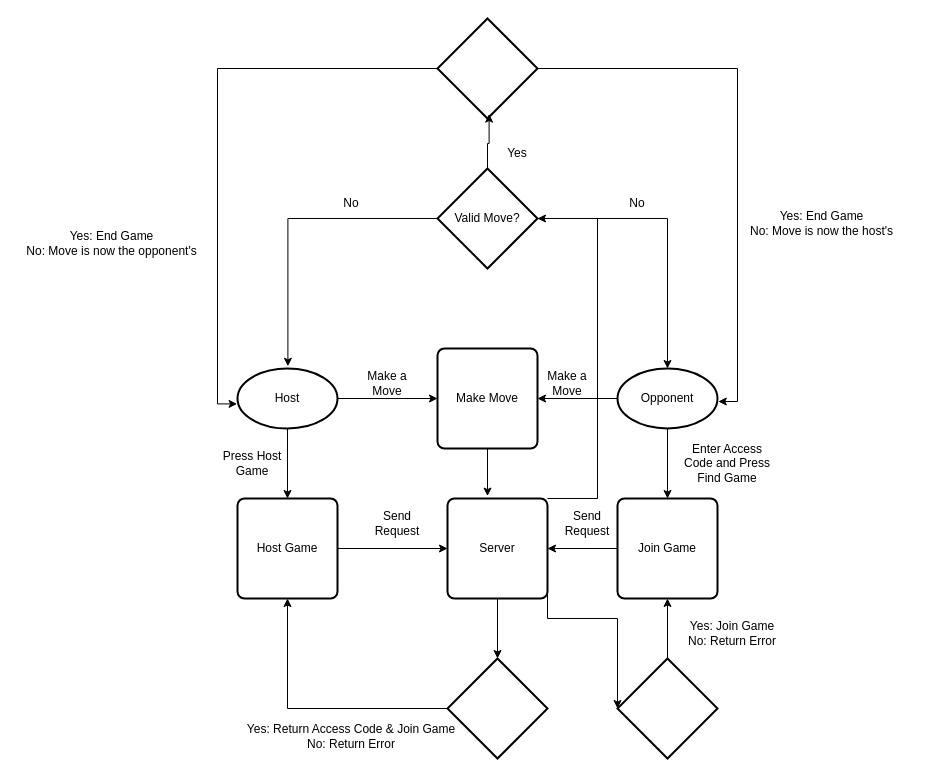
The diagram is 933 pixels wide and 776 high, and some of its shapes have lost their labels. Each missing label, with the centre of its shape:
Access Code Valid?: point (667, 708)
Game Over?: point (487, 68)
Has Host?: point (497, 708)
